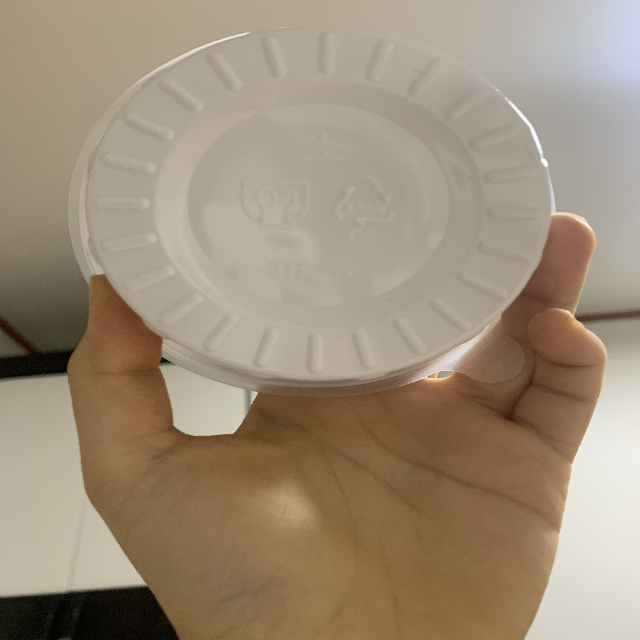ps: (329, 172, 395, 245)
